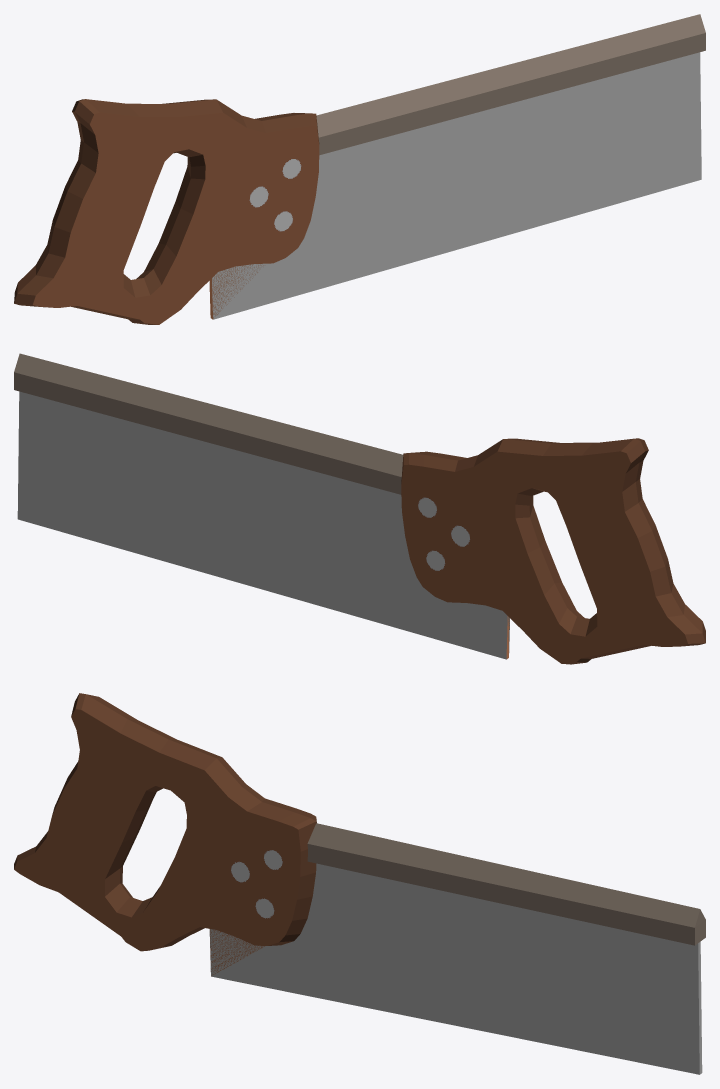
Rendered from BackSaw.fbx.
3 renders of one model, top to bottom at view 1: azimuth 30°, elevation 25°; view 2: azimuth 150°, elevation 25°; view 3: azimuth 330°, elevation 25°, orthographic.
Visible parts, largest first — view 1: ZomboidBackSaw; view 2: ZomboidBackSaw; view 3: ZomboidBackSaw.
Part boxes in pixels (x1,y1,x2,y2): ZomboidBackSaw: (14,14,705,324); ZomboidBackSaw: (14,353,705,664); ZomboidBackSaw: (14,693,705,1074).
Bounding box in the file's own units: 0.2469 × 0.0862 × 0.0111.
